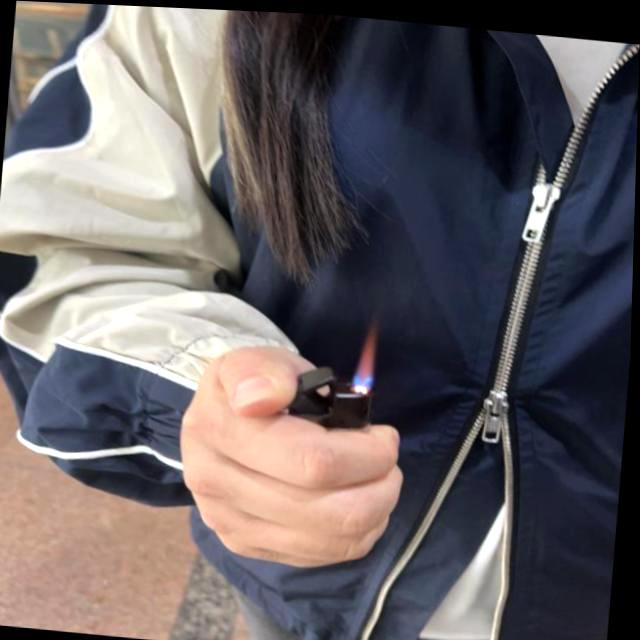fire: (352, 315, 384, 391)
